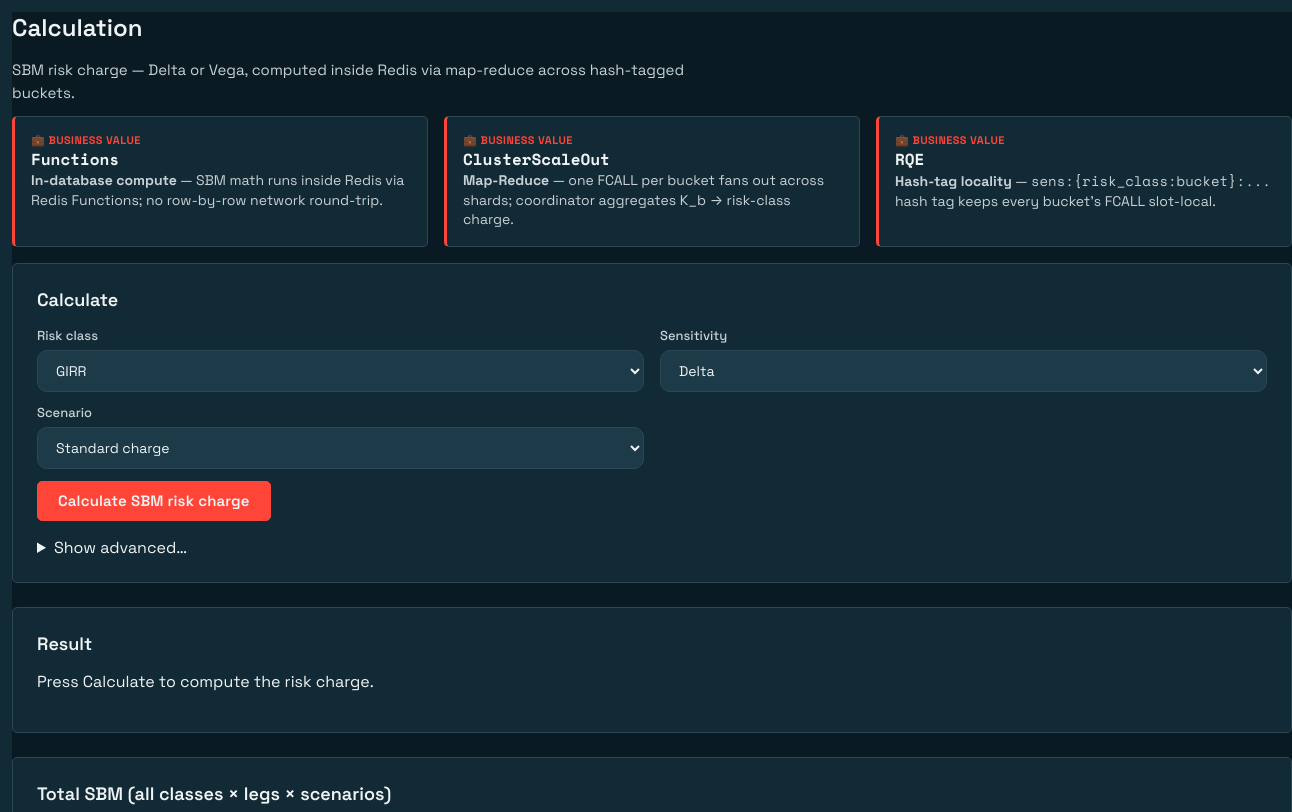
<CalcPanel /> › Wave 5.96F: wallclock-badge cache-hit wording › cache hit headlines cold compute and surfaces served-in time
Step 1. Click the button "Calculate SBM risk charge" → (154, 501), box [37,481,271,521]
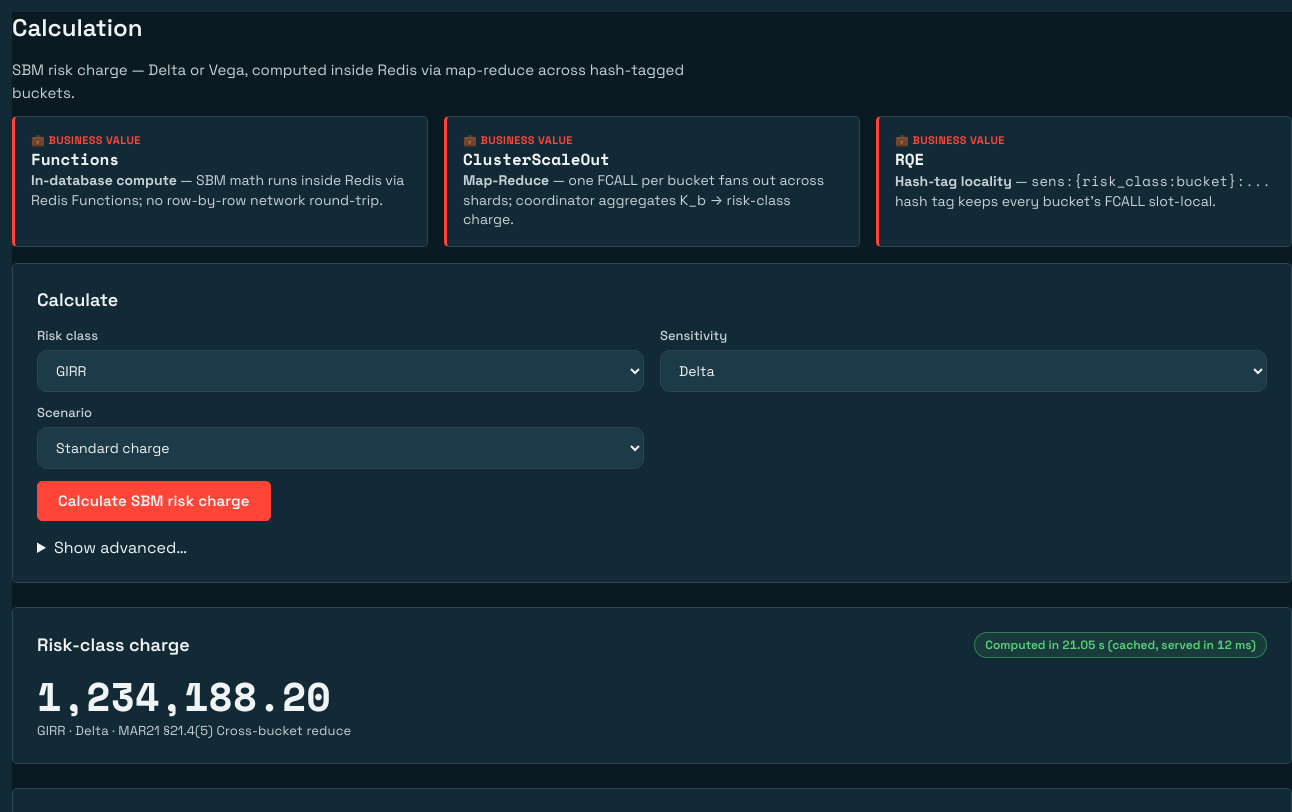
Check: the text with test id "wallclock-badge" shows "21.05 s", box [985,637,1256,653]
Check: the text with test id "wallclock-badge" shows "cached, served in 12 ms", box [985,637,1256,653]
